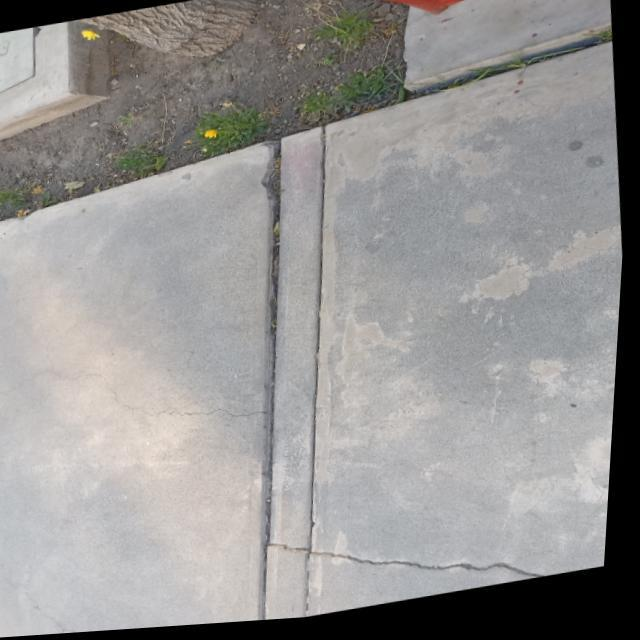hole: (210, 134, 329, 362)
